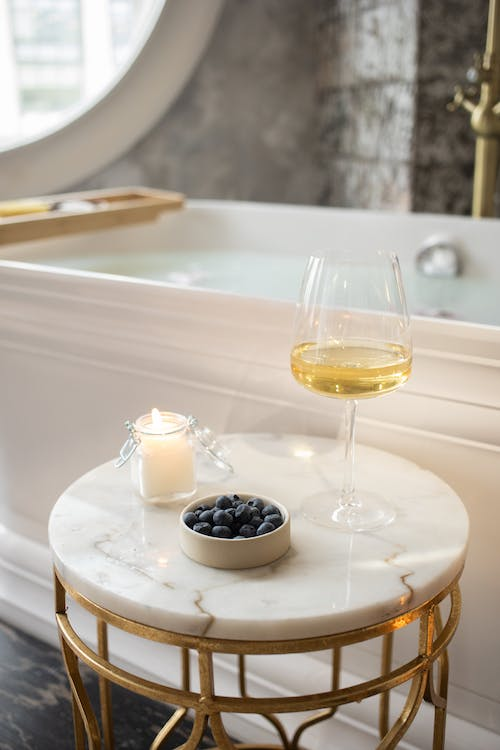alcohol: (287, 248, 414, 533)
